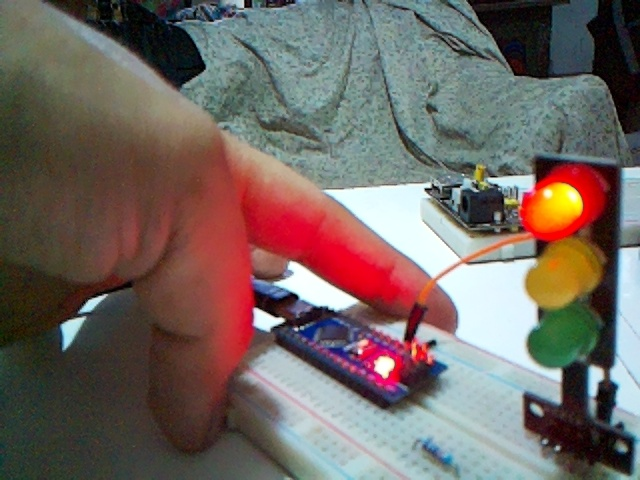traffic_light_red: (524, 154, 622, 439)
